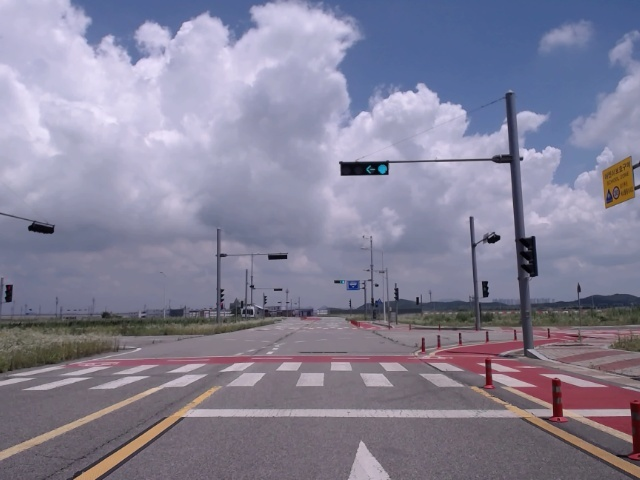all_green_4: (338, 162, 390, 179)
